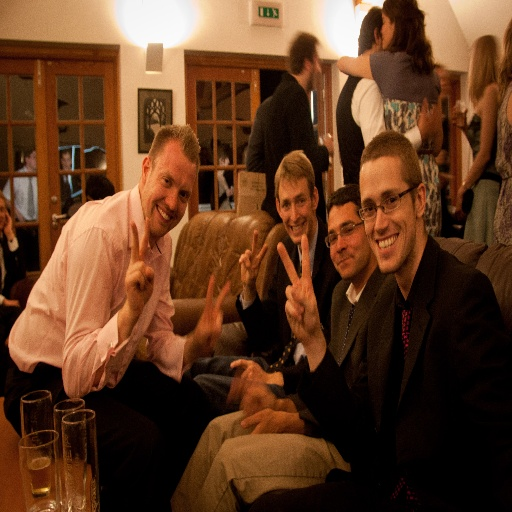hand: (280, 241, 329, 379), (122, 214, 155, 315), (193, 273, 232, 356), (239, 230, 269, 286), (239, 407, 287, 435), (239, 382, 277, 412), (230, 356, 264, 385), (416, 93, 437, 139), (450, 104, 470, 128), (454, 188, 463, 218), (3, 209, 11, 237), (323, 136, 333, 155), (5, 301, 20, 307)
